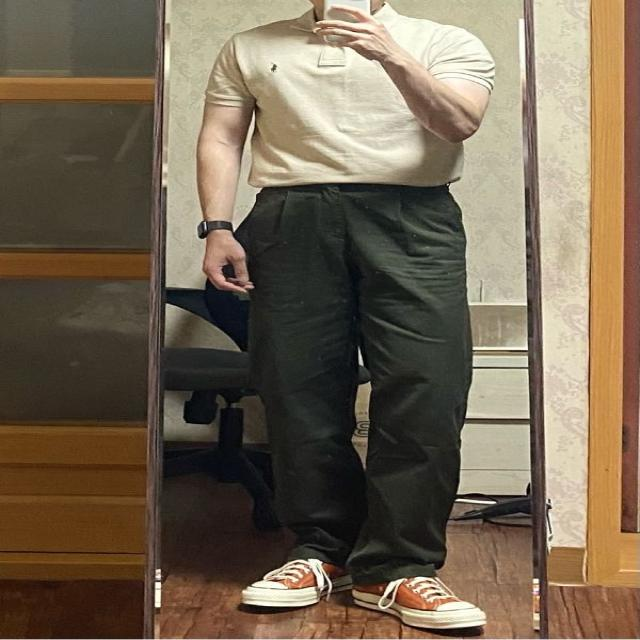cottonpants: (242, 184, 478, 586)
shortsleeve: (208, 6, 500, 190)
